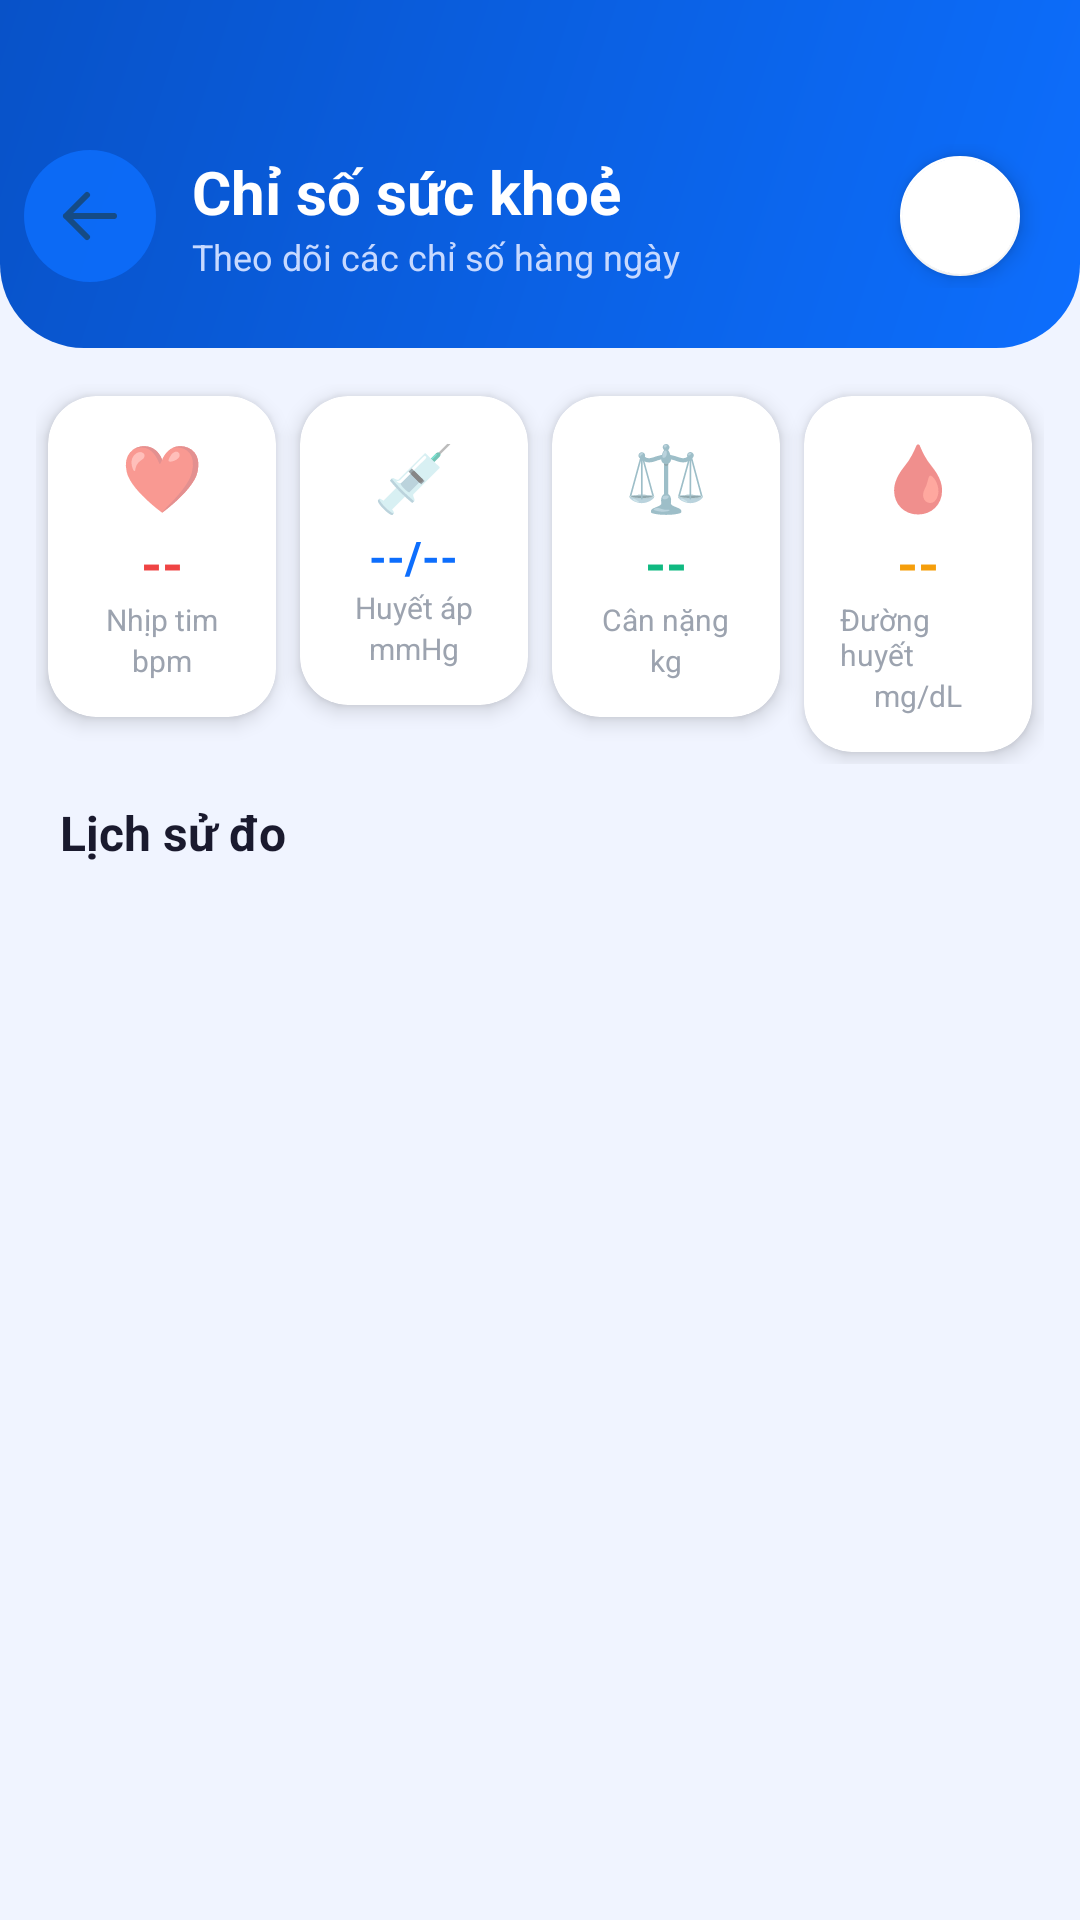

Where to tap for icons on this 1080px×1920px app screen, as point (x, y):
Quay lại: point (90, 216)
